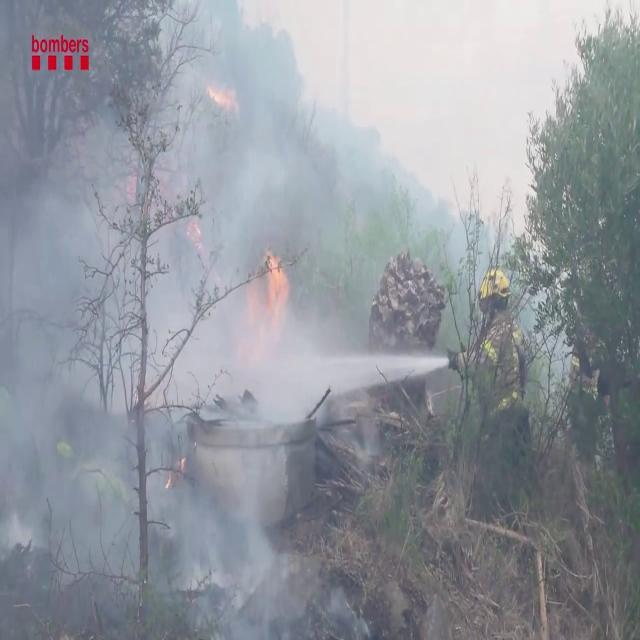Smoke: (0, 1, 406, 634)
